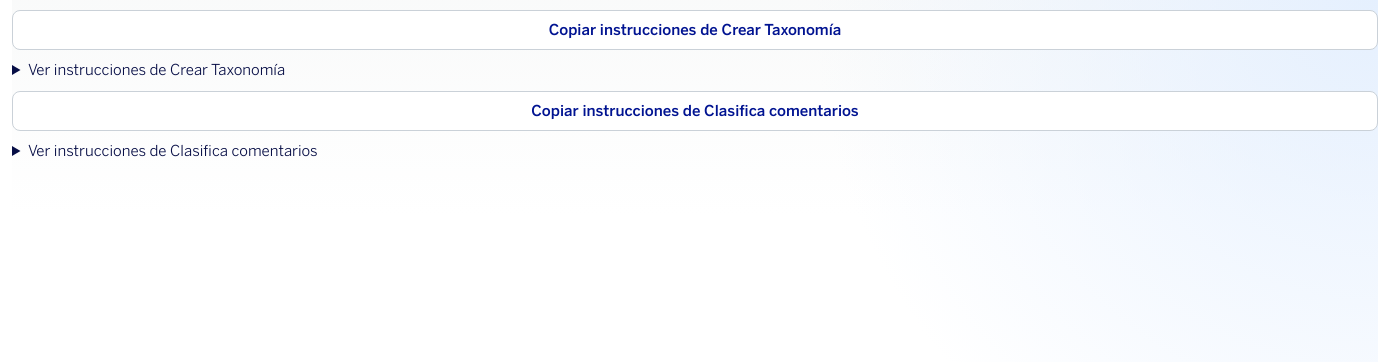
Scenario: copies each exact server template and shares one read-only request
Click the button "Copiar instrucciones de Crear Taxonomía" at (695, 30), box [12,10,1378,50]
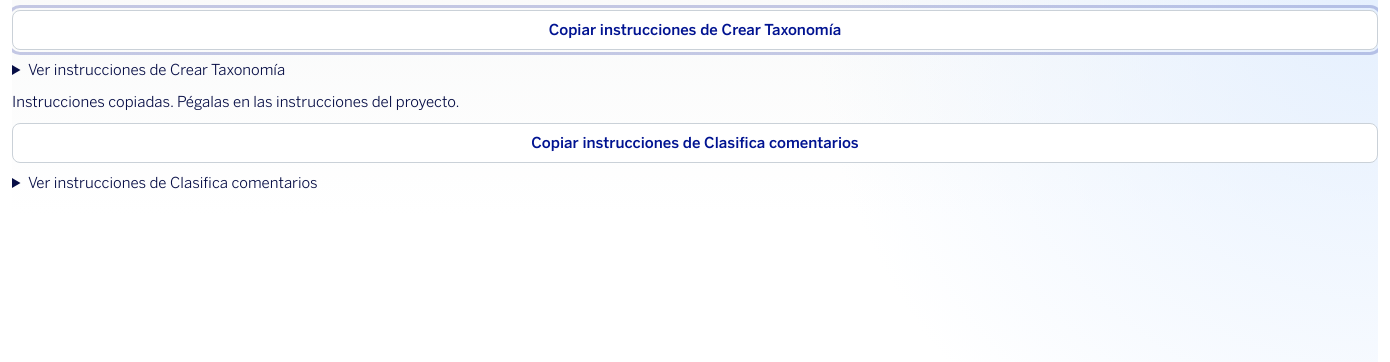
Click the button "Copiar instrucciones de Clasifica comentarios" at (695, 143), box [12,123,1378,163]
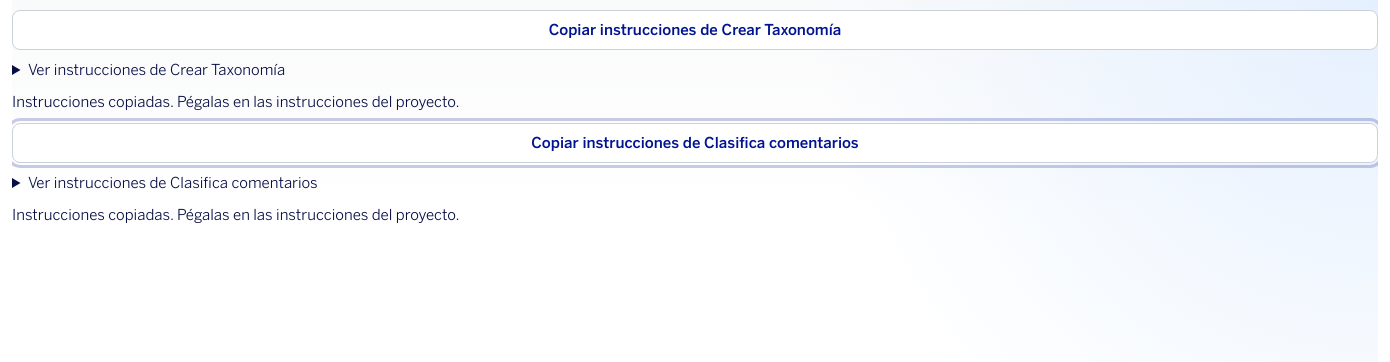
Now the text "Instrucciones copiadas. Pégalas en las instrucciones del proyecto." is shown 2 times, box [12,93,460,111]; [12,206,460,224]
